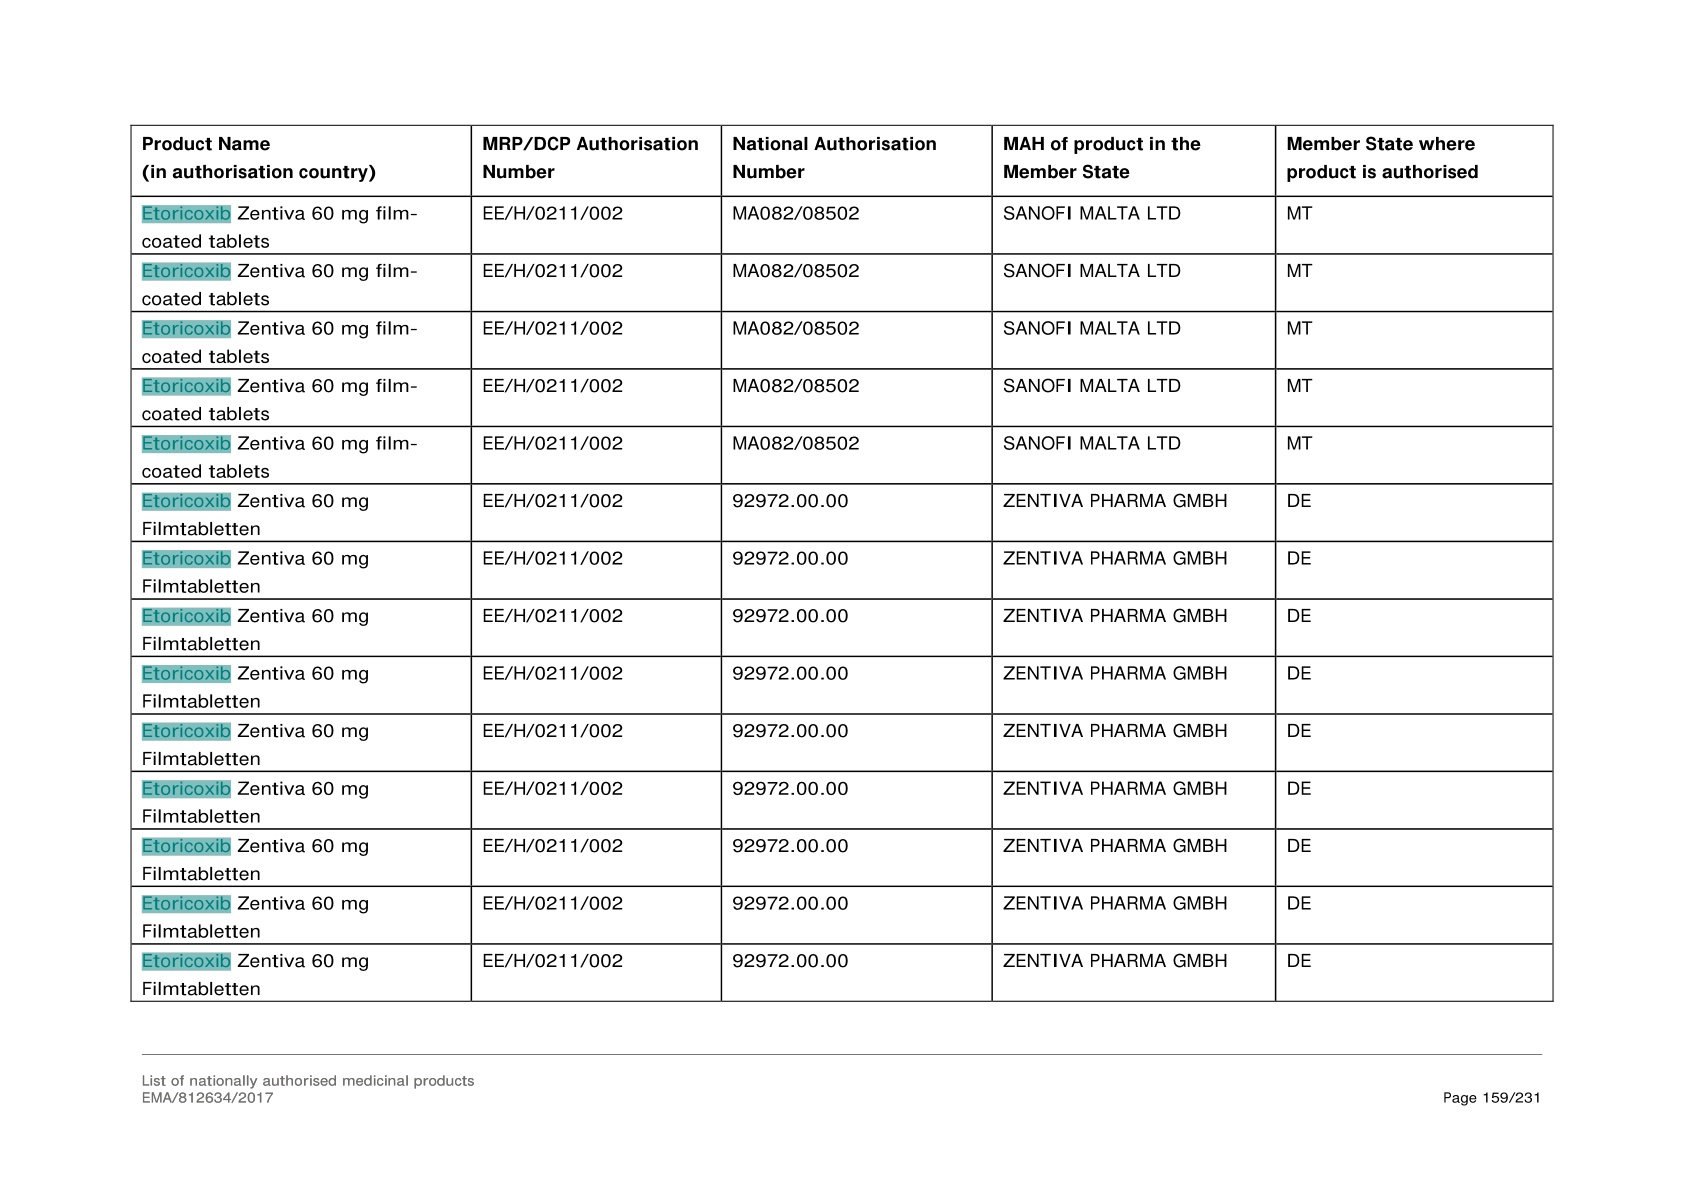full_lined: (129, 124, 1554, 1003)
